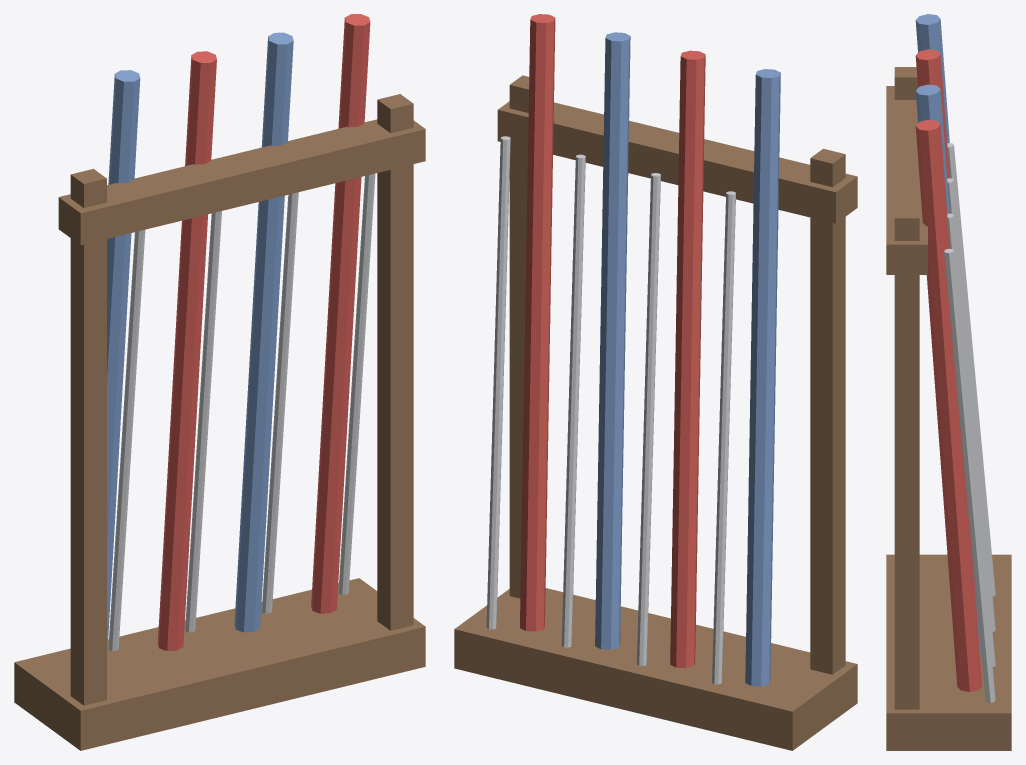
Rendered from ski_rack.glb.
The picture shows the model from 3 angles, left to right: view 1: azimuth 30°, elevation 25°; view 2: azimuth 150°, elevation 25°; view 3: azimuth 270°, elevation 25°; orthographic projection. The views are drawn at different scales.
Parts seen in each view (by area): view 1: ski_rack; view 2: ski_rack; view 3: ski_rack.
Part boxes in pixels (box(x1,y1,x2,y2)): ski_rack: box(14, 14, 425, 750); ski_rack: box(454, 14, 857, 750); ski_rack: box(886, 14, 1011, 750).
Bounding box in the file's own units: 0.9 × 1.6 × 0.3.
